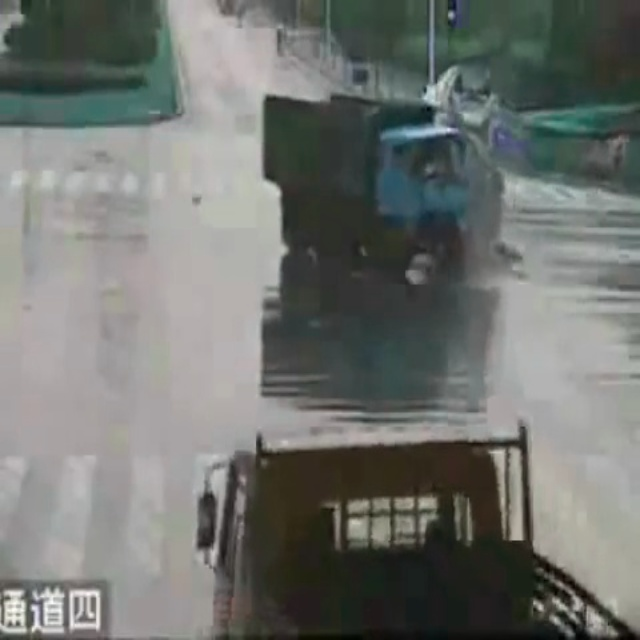acc: (240, 61, 522, 309)
